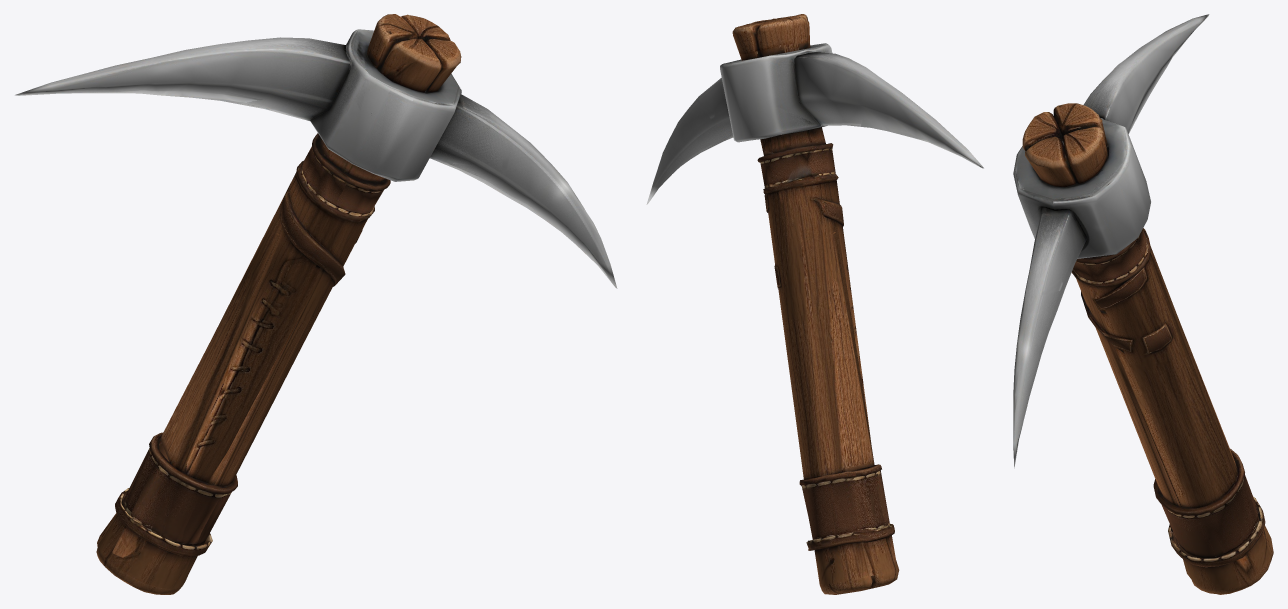
Rendered from decent_pickaxe.fbx.
3 renders of one model, left to right at view 1: azimuth 30°, elevation 25°; view 2: azimuth 150°, elevation 25°; view 3: azimuth 270°, elevation 25°, orthographic. The views are drawn at different scales.
Parts seen in each view (by area): view 1: tripo_node_18e0e17b; view 2: tripo_node_18e0e17b; view 3: tripo_node_18e0e17b.
Boxes of the visible parts, x1,y1,x2,y2 form: tripo_node_18e0e17b: [15, 14, 617, 594]; tripo_node_18e0e17b: [646, 14, 983, 594]; tripo_node_18e0e17b: [1013, 14, 1273, 594].
Size of the model in its own units: 0.8965 by 0.998 by 0.4277.
Materials: 1 (1 with a texture image).
